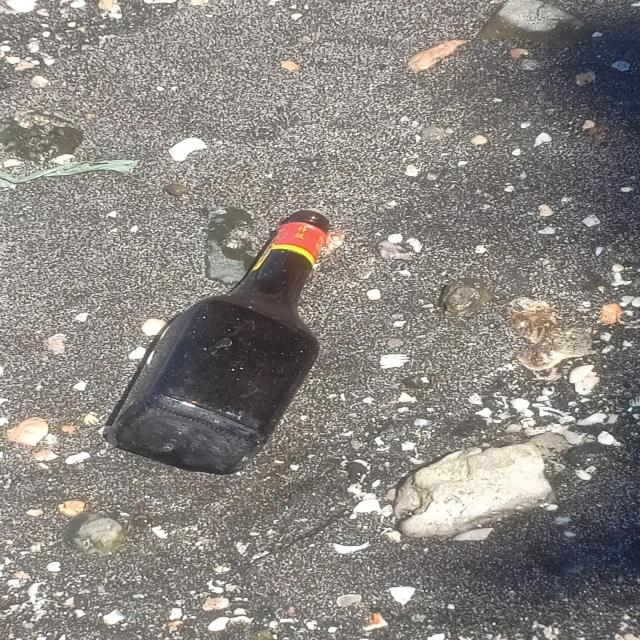glass_waste: (102, 211, 331, 476)
